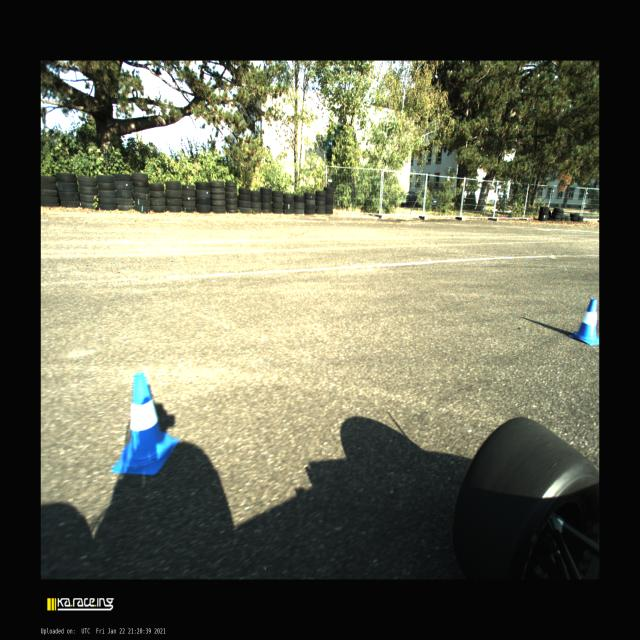blue_cone: (110, 373, 178, 475), (569, 298, 599, 346)
